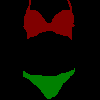mutande: (23, 67, 75, 99)
reggiseno: (23, 0, 75, 40)
